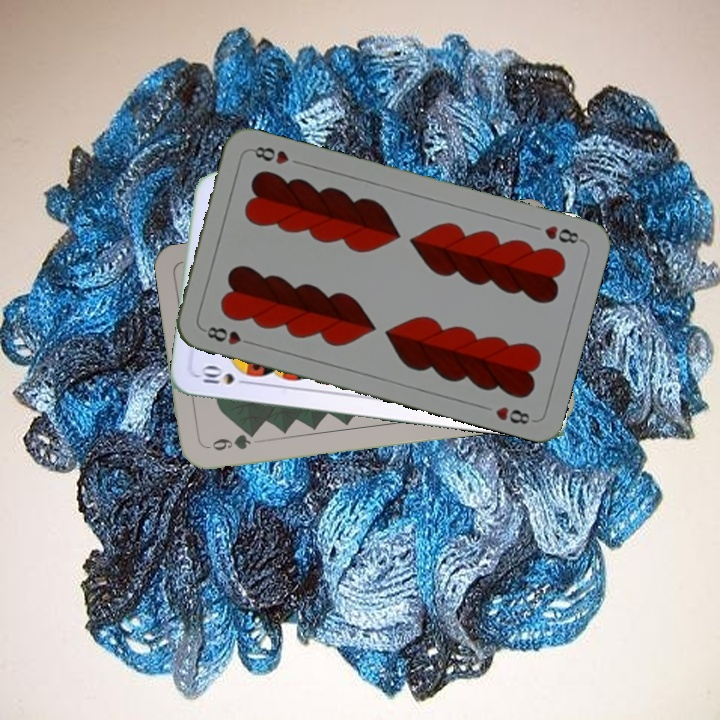G9: (202, 428, 259, 453)
H8: (199, 322, 257, 348), (540, 221, 586, 247)
S10: (197, 363, 253, 387)
